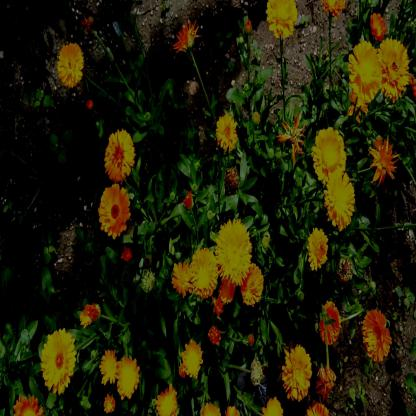marigold: (215, 220, 249, 287), (41, 329, 74, 392), (349, 44, 381, 102), (325, 171, 355, 228), (379, 41, 408, 98), (284, 344, 312, 400), (104, 128, 135, 178), (315, 128, 346, 177), (362, 312, 392, 362), (369, 135, 398, 183), (100, 186, 128, 232), (190, 247, 216, 295), (115, 354, 139, 402), (267, 0, 297, 36), (56, 42, 82, 83), (319, 302, 343, 344), (307, 228, 330, 270), (181, 339, 204, 377), (241, 265, 262, 304), (216, 112, 238, 148), (171, 262, 193, 298), (100, 350, 121, 382), (154, 387, 180, 412), (218, 277, 236, 304)
